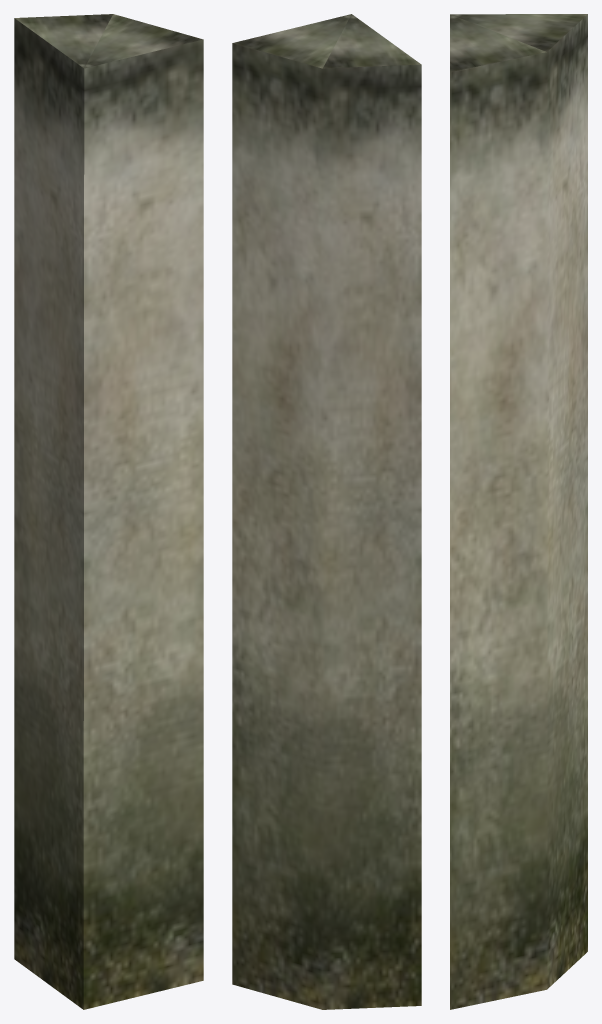
File: LowWallStucco_Corner.fbx
The picture shows the model from 3 angles, left to right: view 1: azimuth 30°, elevation 25°; view 2: azimuth 210°, elevation 25°; view 3: azimuth 270°, elevation 25°; orthographic projection.
Visible parts, largest first — view 1: lod_high; view 2: lod_high; view 3: lod_high.
Boxes of the visible parts, bbox=[...] form: lod_high: bbox=[14, 14, 203, 1009]; lod_high: bbox=[232, 14, 421, 1009]; lod_high: bbox=[450, 14, 587, 1009].
Size of the model in its own units: 100 by 750 by 100.
Materials: 1 (1 with a texture image).
